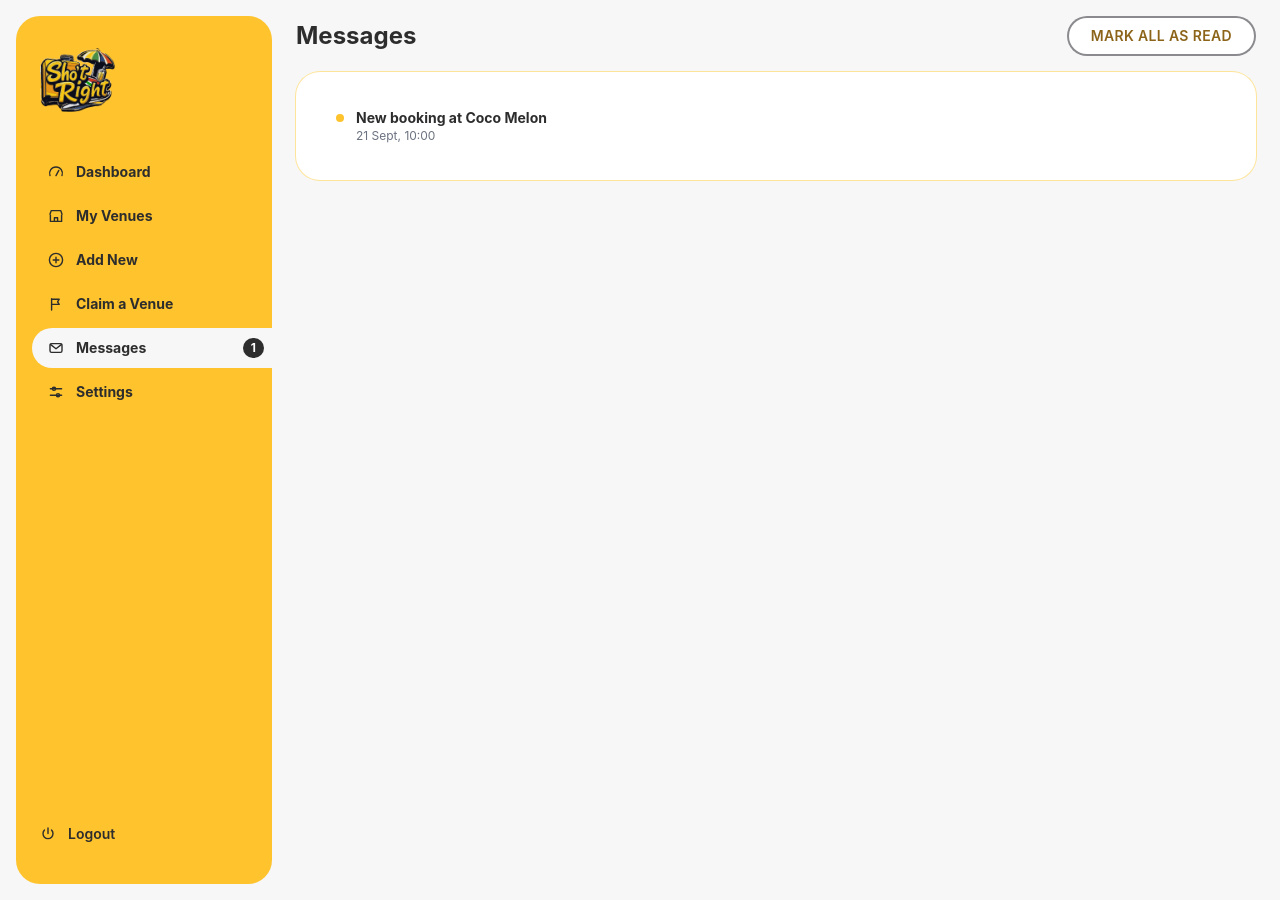
it: the Messages panel › still reads messages on a bench without mark_inbox_read
The width and height of the screenshot is (1280, 900).
What coordinates should you click on to do the following:
click the button "New booking at Coco Melon 21 Sept, 10:00"
I would click on:
 (451, 118)
Its box is [320,96,1232,156].
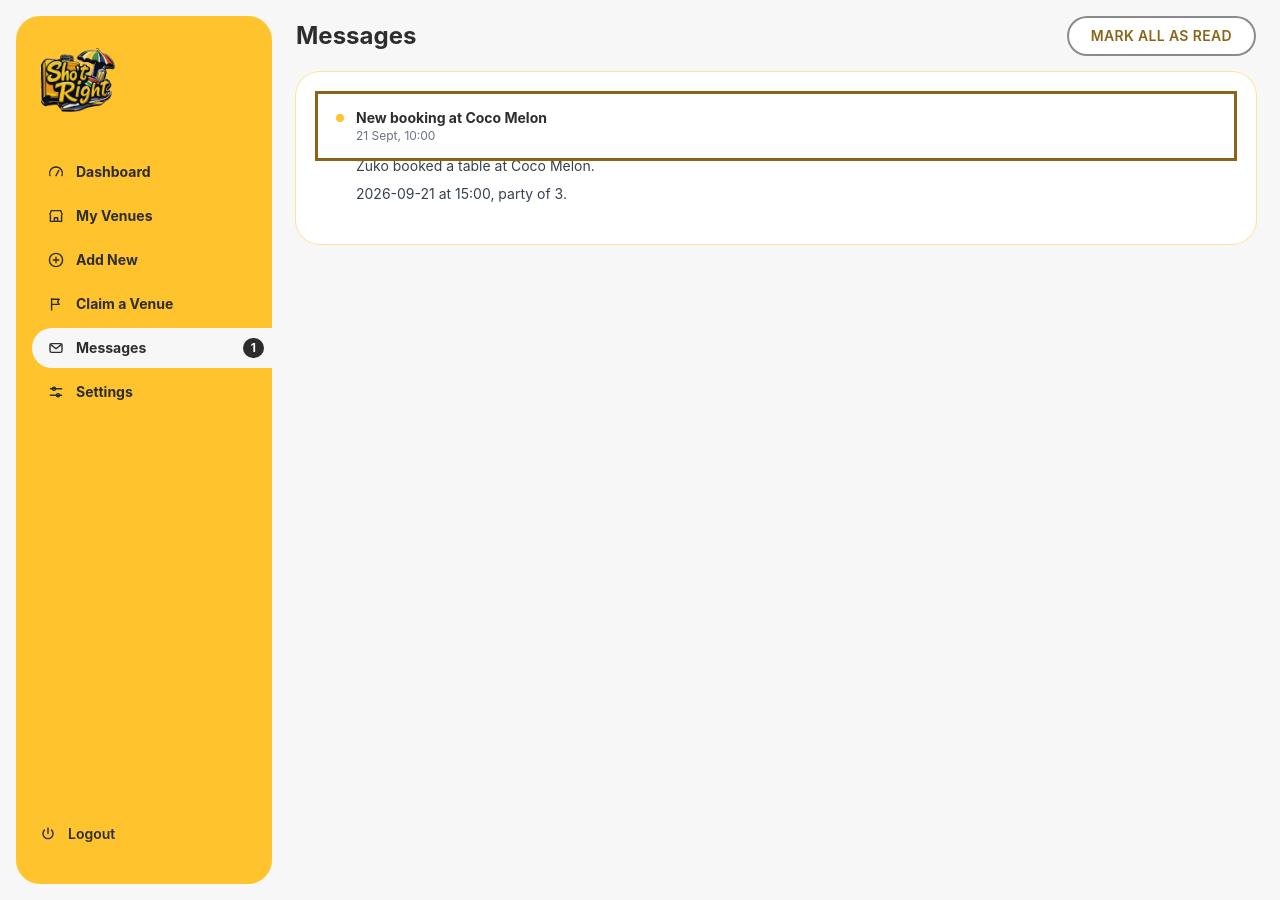
Expected: the text "Zuko booked a table at Coco Melon." is shown, [356,157,595,174]
